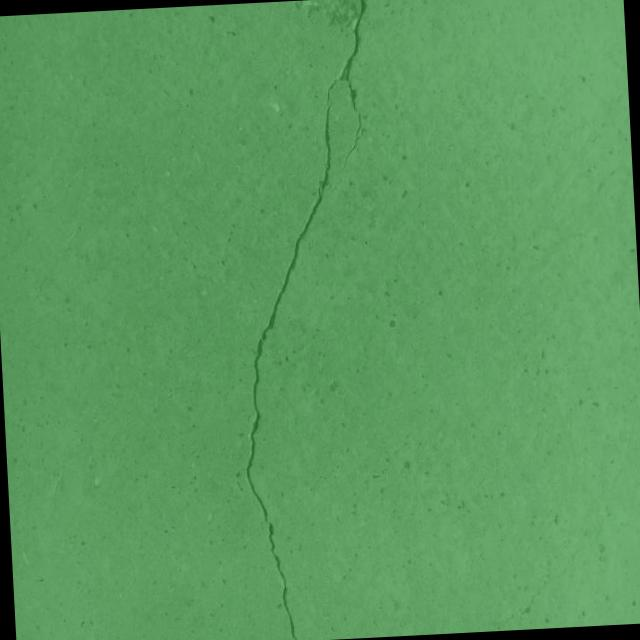crack: (221, 0, 400, 640)
